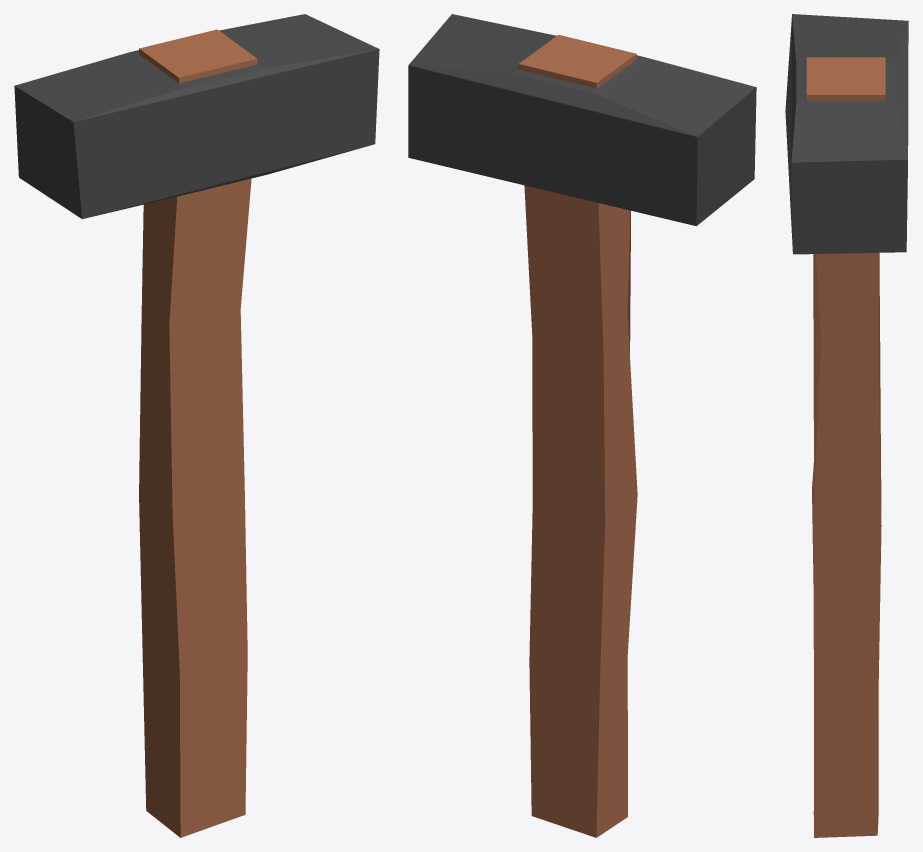
File: Hammer.fbx
The picture shows the model from 3 angles, left to right: view 1: azimuth 30°, elevation 25°; view 2: azimuth 150°, elevation 25°; view 3: azimuth 270°, elevation 25°; orthographic projection.
Parts seen in each view (by area): view 1: Hammer; view 2: Hammer; view 3: Hammer.
Boxes of the visible parts, bbox=[...] form: Hammer: bbox=[14, 14, 379, 837]; Hammer: bbox=[408, 14, 756, 837]; Hammer: bbox=[785, 14, 908, 837].
Bounding box in the file's own units: 1.14 × 2.73 × 0.4042.
